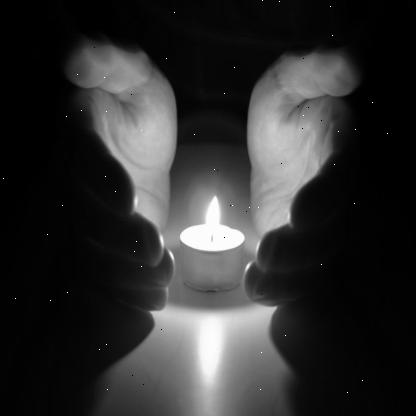fire: (186, 184, 242, 242)
